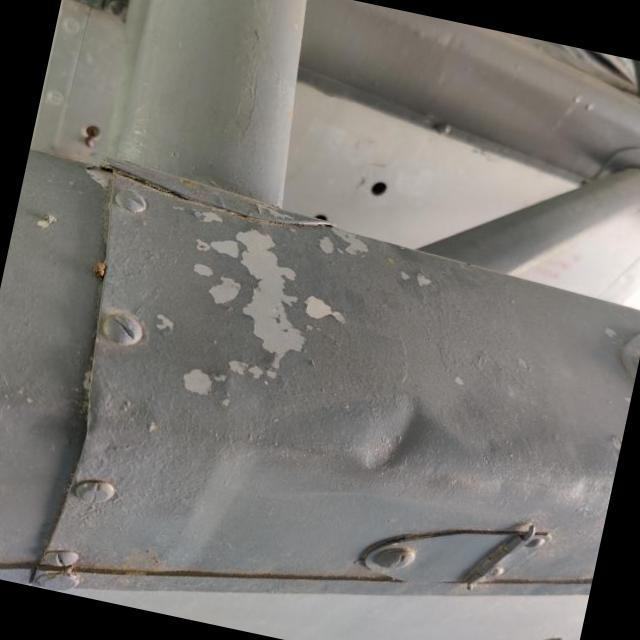Dent: (342, 382, 449, 498)
